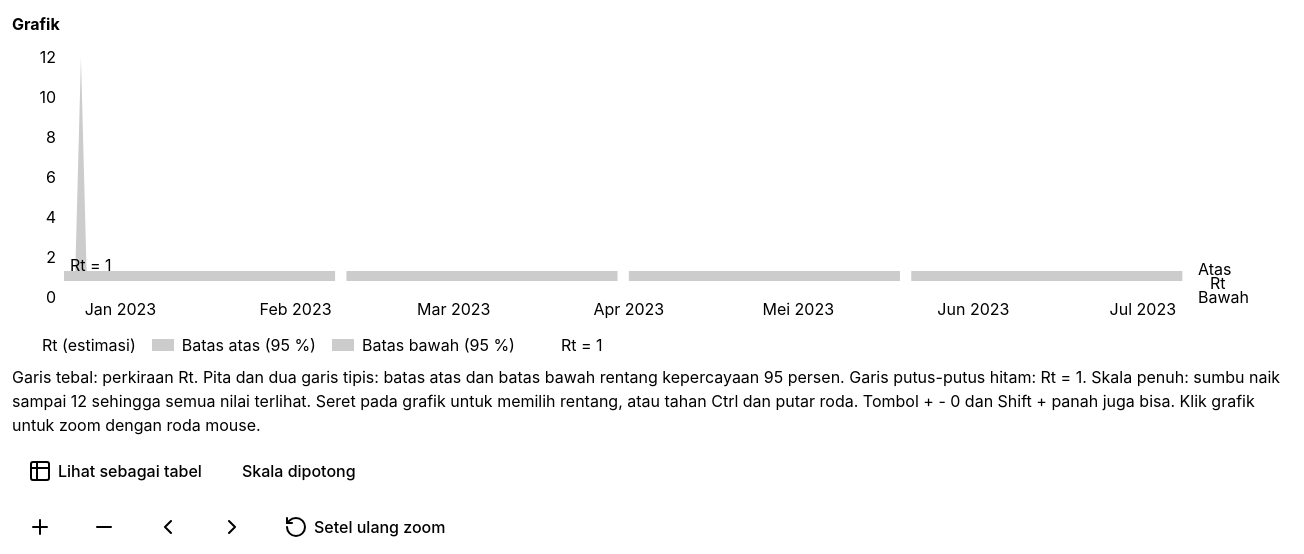
Test: RtChart bounds and scale › the tooltip names the three values
Focus the element named "Grafik. Grafik, gunakan tombol panah": (652, 185) x1=12 y1=45 x2=1292 y2=325
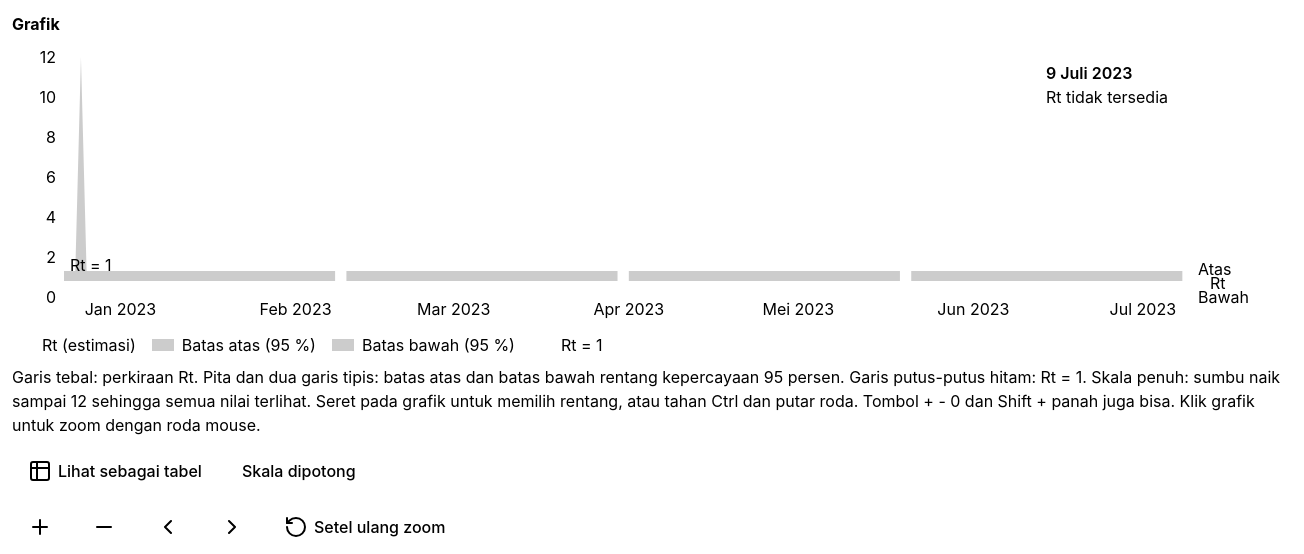
Press ArrowLeft in the element named "Grafik. Grafik, gunakan tombol panah", box x1=12 y1=45 x2=1292 y2=325
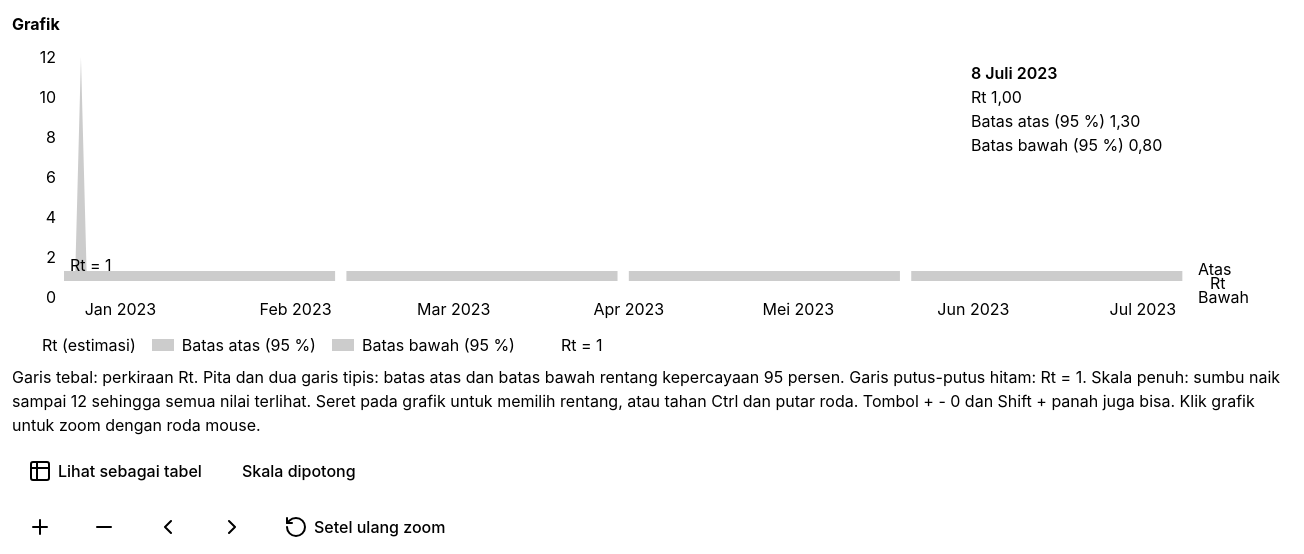
Expected: the element that starts with "8 Juli 2023" shows "Batas atas (95 %)", x1=971 y1=111 x2=1140 y2=131
Expected: the element that starts with "8 Juli 2023" shows "Batas bawah (95 %)", x1=971 y1=135 x2=1162 y2=155
